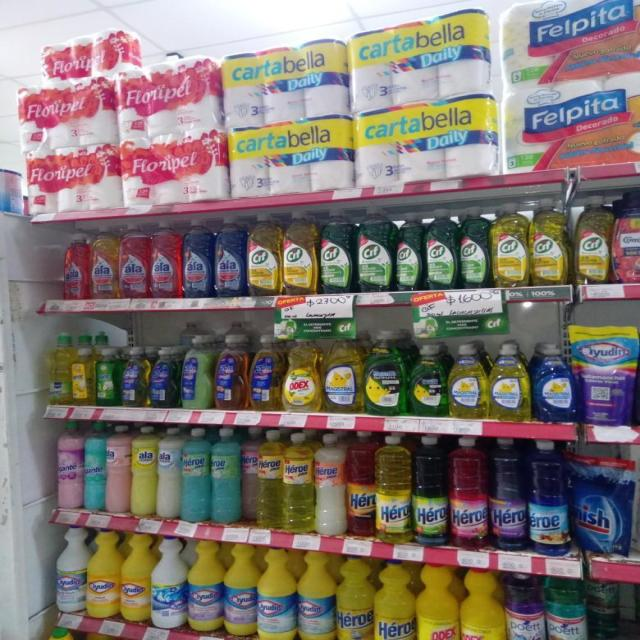ala_conc_amarillo: (89, 224, 118, 300)
ala_conc_azul: (214, 215, 246, 297), (182, 218, 213, 298)
ala_conc_rojo: (150, 219, 181, 299), (119, 222, 148, 299), (62, 231, 88, 301)
ala_crem_amarillo: (131, 425, 156, 517)
ala_crem_blanco: (157, 426, 181, 520)
ala_crem_rosado: (106, 424, 130, 514)
cif_conc_bot_amarilla: (573, 194, 611, 285), (530, 198, 569, 286), (492, 201, 528, 288), (282, 211, 318, 295), (247, 213, 281, 296)
cif_conc_botella_verde: (357, 207, 392, 292), (320, 208, 354, 294), (424, 208, 457, 290), (459, 205, 490, 288), (394, 211, 422, 291)
gigante: (55, 421, 83, 510), (84, 422, 105, 512)
heroe: (315, 432, 346, 537), (283, 432, 314, 534), (211, 426, 240, 524), (182, 427, 210, 523), (258, 428, 283, 530), (242, 427, 258, 526), (95, 346, 119, 407)
magistral_con_amarillo: (322, 334, 362, 414), (490, 342, 530, 422), (448, 342, 487, 419)
magistral_con_azul: (534, 342, 576, 422)
odex: (284, 335, 320, 413)
zorro: (248, 333, 282, 412), (214, 332, 247, 410), (180, 334, 212, 411), (150, 345, 178, 409), (120, 346, 148, 408)
